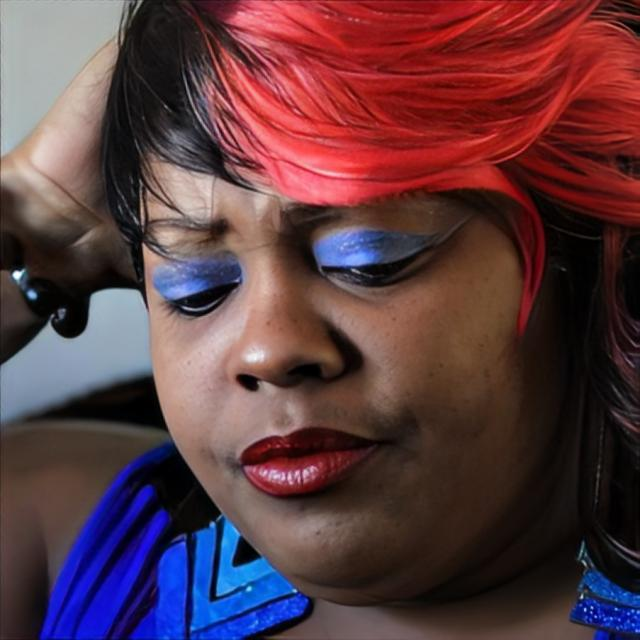sad: (136, 57, 546, 585)
